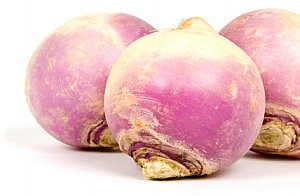turnip: (102, 14, 264, 178), (23, 11, 159, 148), (223, 5, 299, 162)
